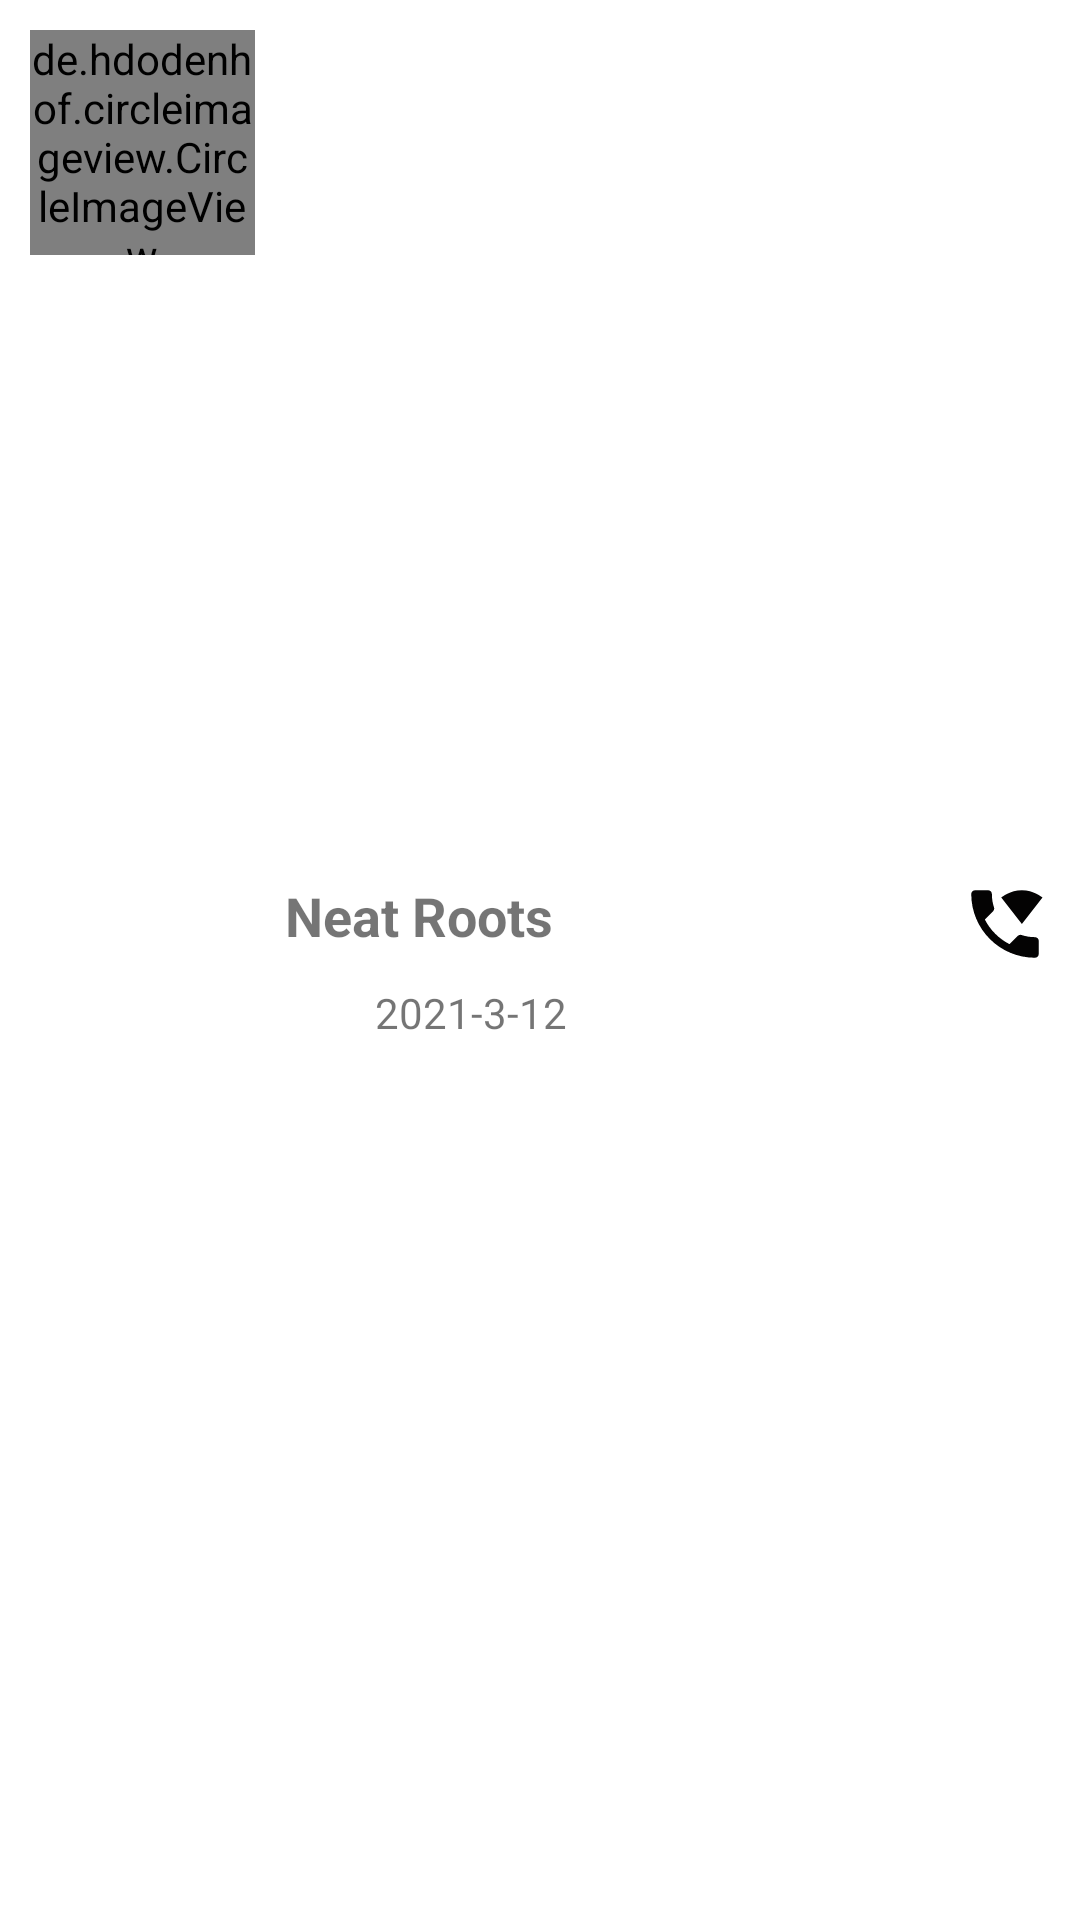

Screen size 1080x1920. Icon name, then its center in pixels as [x,y]:
call: [1007,924]
